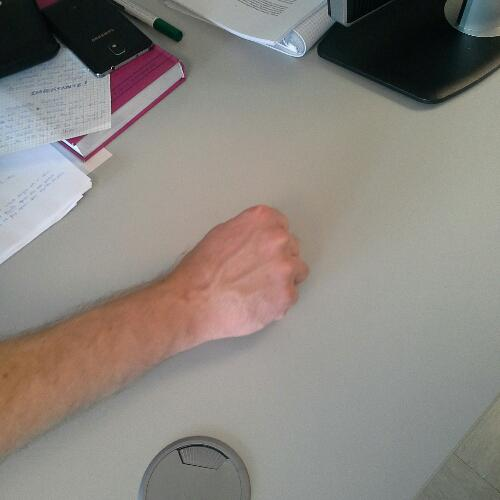rock: (169, 200, 313, 347)
